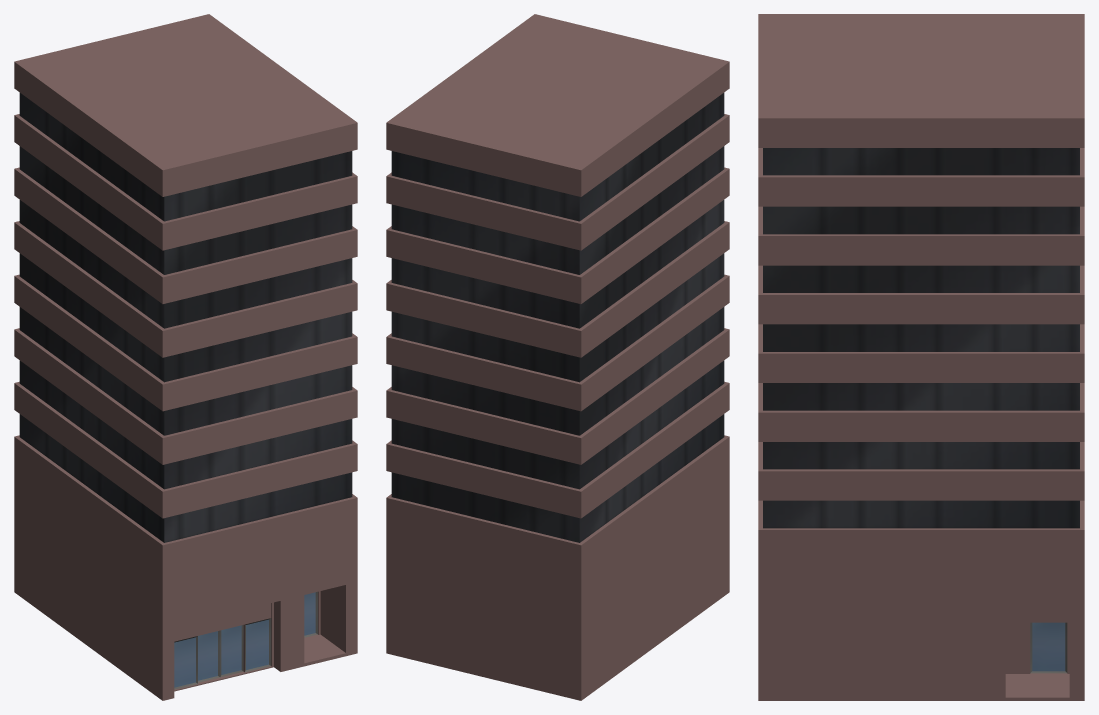
The model's file is Bld_Building_JB.fbx.
3 renders of one model, left to right at view 1: azimuth 30°, elevation 25°; view 2: azimuth 150°, elevation 25°; view 3: azimuth 270°, elevation 25°, orthographic. The views are drawn at different scales.
Visible parts, largest first — view 1: Bld_Building_JB; view 2: Bld_Building_JB; view 3: Bld_Building_JB.
Part boxes in pixels (bbox=[...]): Bld_Building_JB: bbox=[14, 14, 357, 700]; Bld_Building_JB: bbox=[386, 14, 729, 700]; Bld_Building_JB: bbox=[758, 14, 1084, 700].
Bounding box in the file's own units: 1000 × 2600 × 1320.
